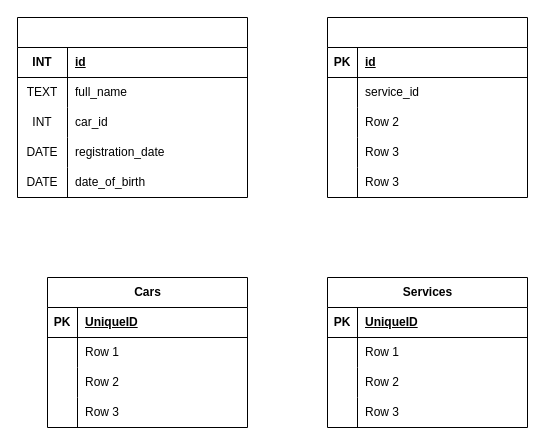
The diagram is 545 pixels wide and 445 high, and some of its shapes have lost their labels. Here are the shapes that lost their labels. From the top down, the box of each, then its label:
(16, 16, 248, 198): customers
(326, 16, 528, 198): Orders
